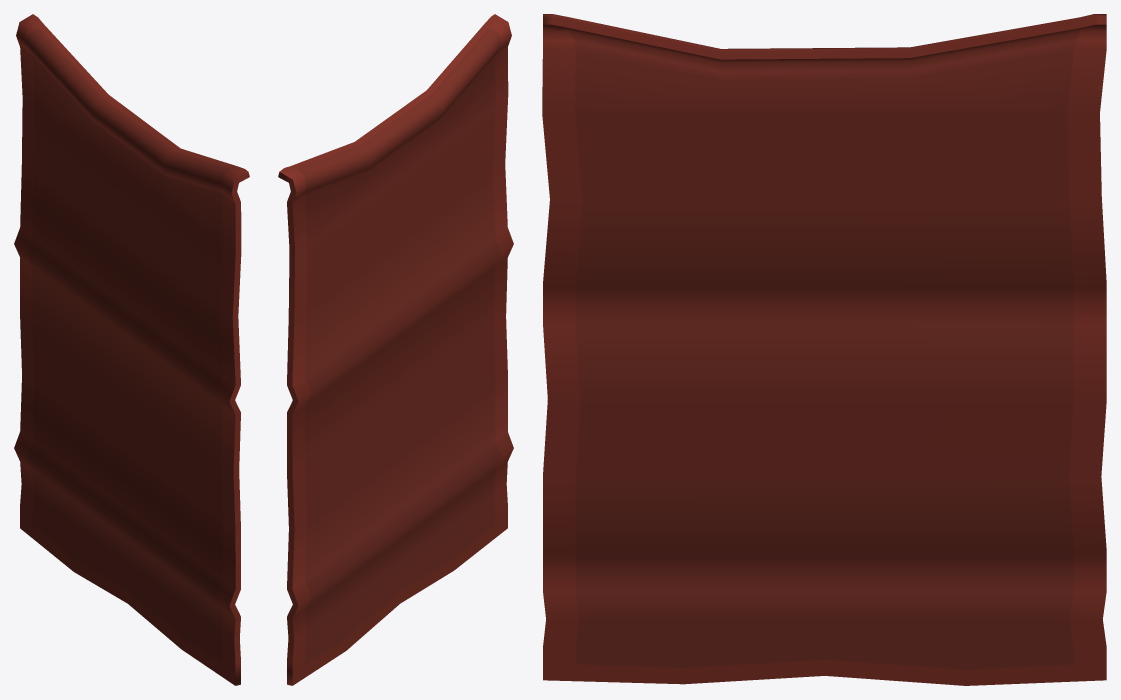
File: Scaffold_sheet_2_7.fbx
3 views of the same model, side by side, from view 1: azimuth 30°, elevation 25°; view 2: azimuth 150°, elevation 25°; view 3: azimuth 270°, elevation 25° (orthographic). The views are drawn at different scales.
Visible parts, largest first — view 1: Scaffold_sheet_2_7; view 2: Scaffold_sheet_2_7; view 3: Scaffold_sheet_2_7.
Boxes of the visible parts, x1,y1,x2,y2 form: Scaffold_sheet_2_7: (14, 14, 249, 685); Scaffold_sheet_2_7: (278, 14, 513, 685); Scaffold_sheet_2_7: (542, 14, 1106, 685).
Bounding box in the file's own units: 10.1 × 242 × 184.
